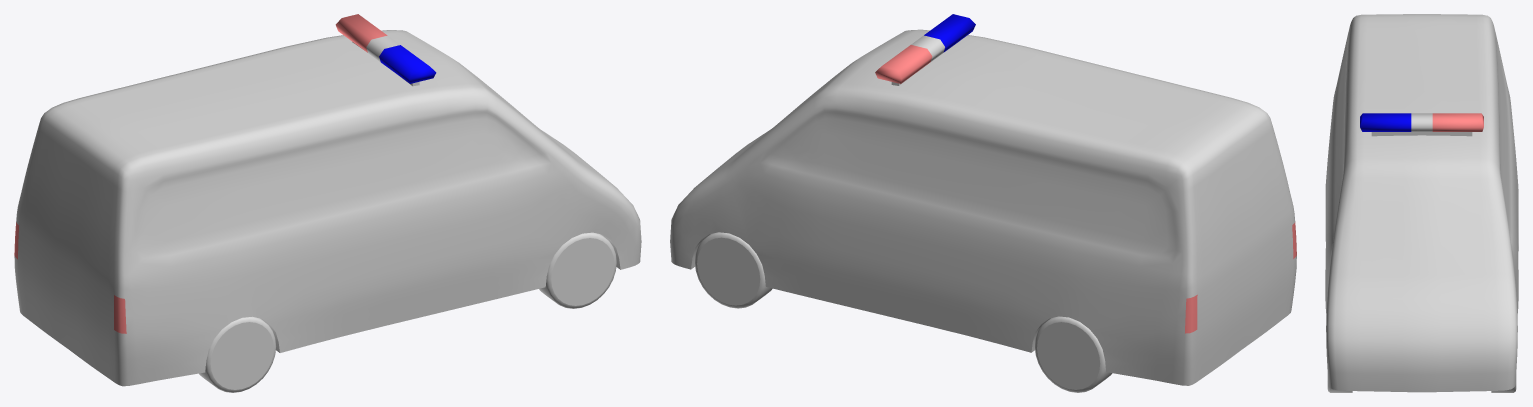
Rendered from POLICECAR.glb.
The picture shows the model from 3 angles, left to right: view 1: azimuth 30°, elevation 25°; view 2: azimuth 150°, elevation 25°; view 3: azimuth 270°, elevation 25°; orthographic projection. The views are drawn at different scales.
Visible parts, largest first — view 1: body, light2, light1, light; view 2: body, light1, light2, light; view 3: body, light1, light2.
Part boxes in pixels (x1,y1,x2,y2): body: [14, 30, 641, 392]; light2: [379, 45, 436, 83]; light1: [335, 14, 387, 52]; light: [14, 222, 126, 333]; body: [670, 29, 1296, 392]; light1: [875, 45, 932, 83]; light2: [924, 14, 975, 52]; light: [1185, 222, 1296, 333]; body: [1325, 14, 1518, 392]; light1: [1432, 113, 1483, 131]; light2: [1360, 113, 1411, 131].
Bounding box in the file's own units: 4.31 × 2.02 × 1.64.
